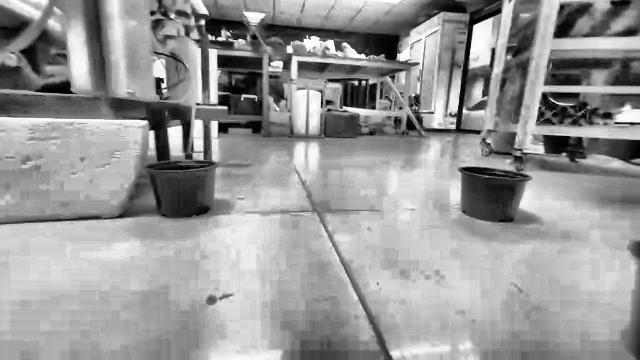pot: (146, 159, 218, 218), (459, 167, 531, 222)
